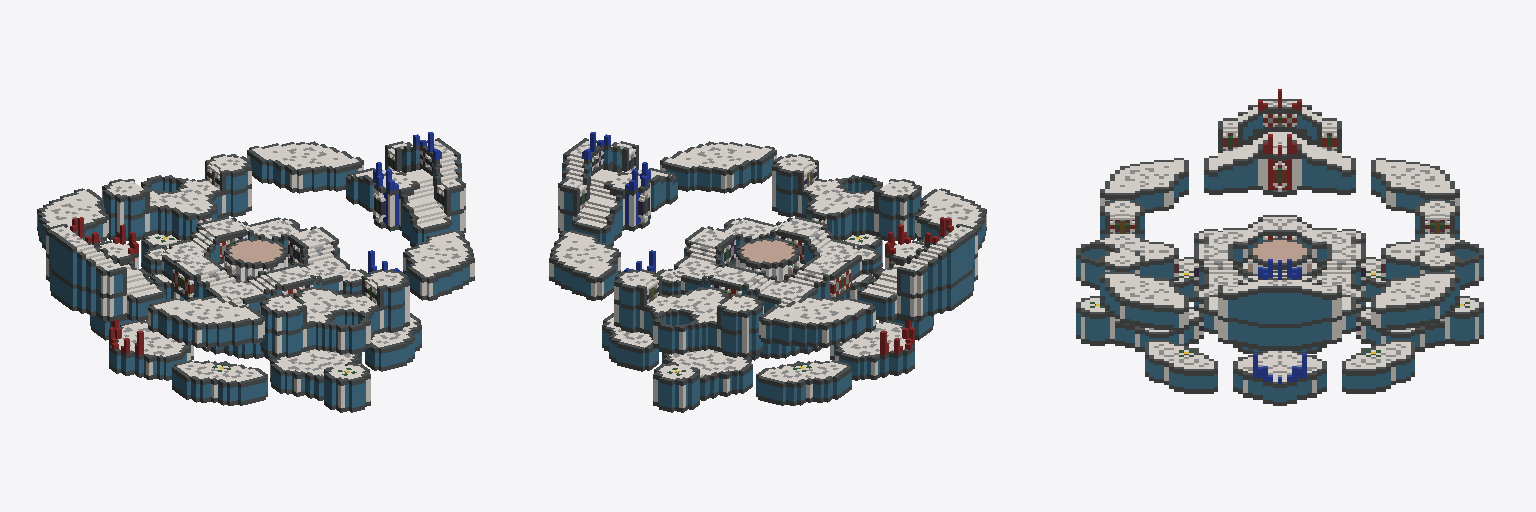
3 renders of one model, left to right at view 1: azimuth 30°, elevation 25°; view 2: azimuth 150°, elevation 25°; view 3: azimuth 270°, elevation 25°, orthographic.
Bounding box in the file's own units: 91 × 36 × 83.
Materials: 29 (4 with a texture image).